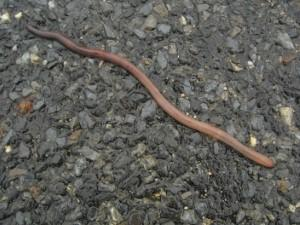earthworms: (15, 7, 274, 182)
